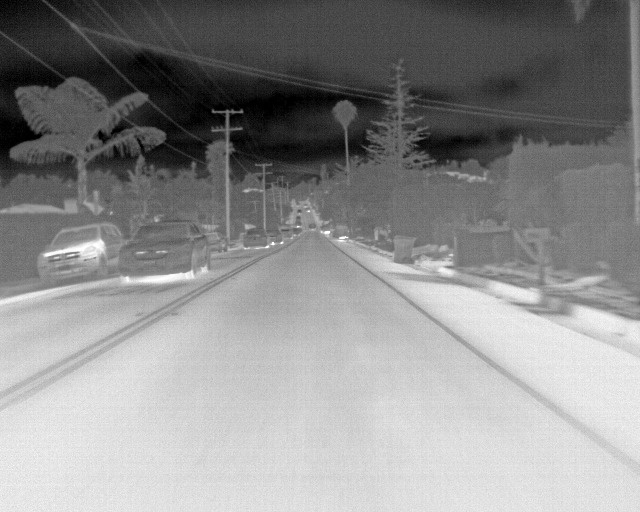vehicle: (118, 216, 211, 288), (37, 220, 121, 292), (246, 226, 269, 249)
